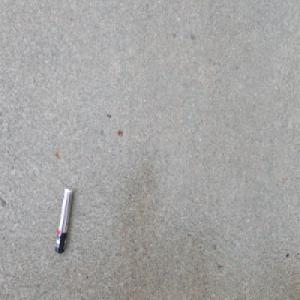Battery: (53, 184, 73, 255)
